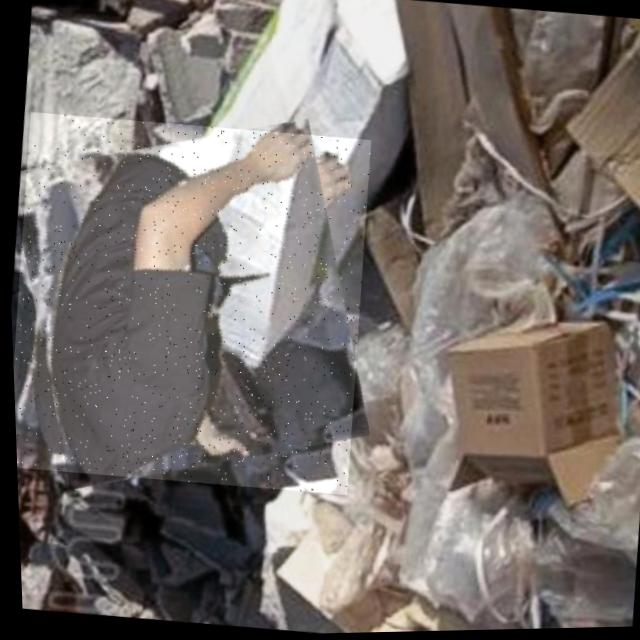Person in Rubble: (3, 105, 380, 501)
